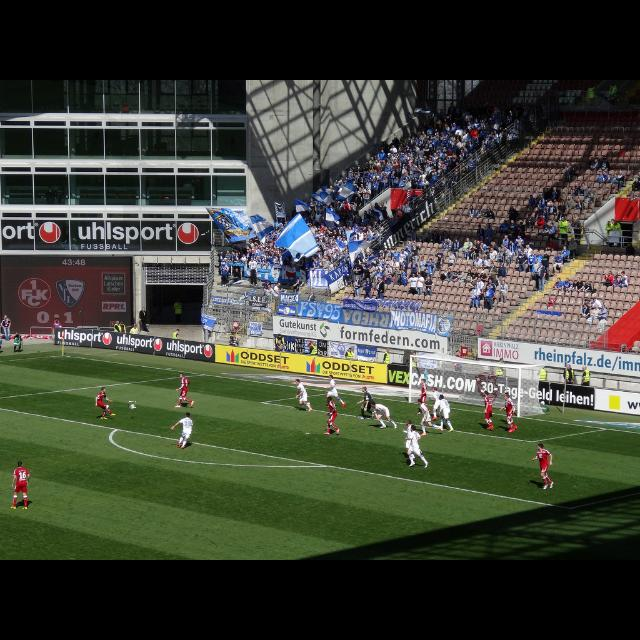Football: (128, 402, 136, 408)
